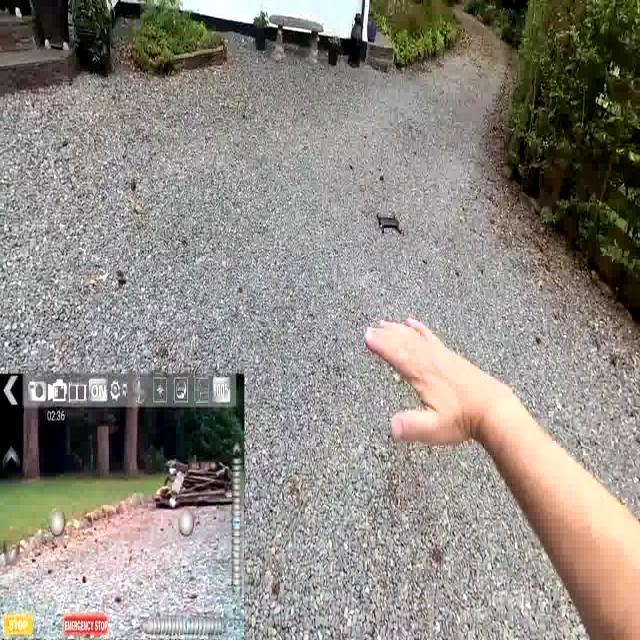drone: (374, 204, 407, 242)
